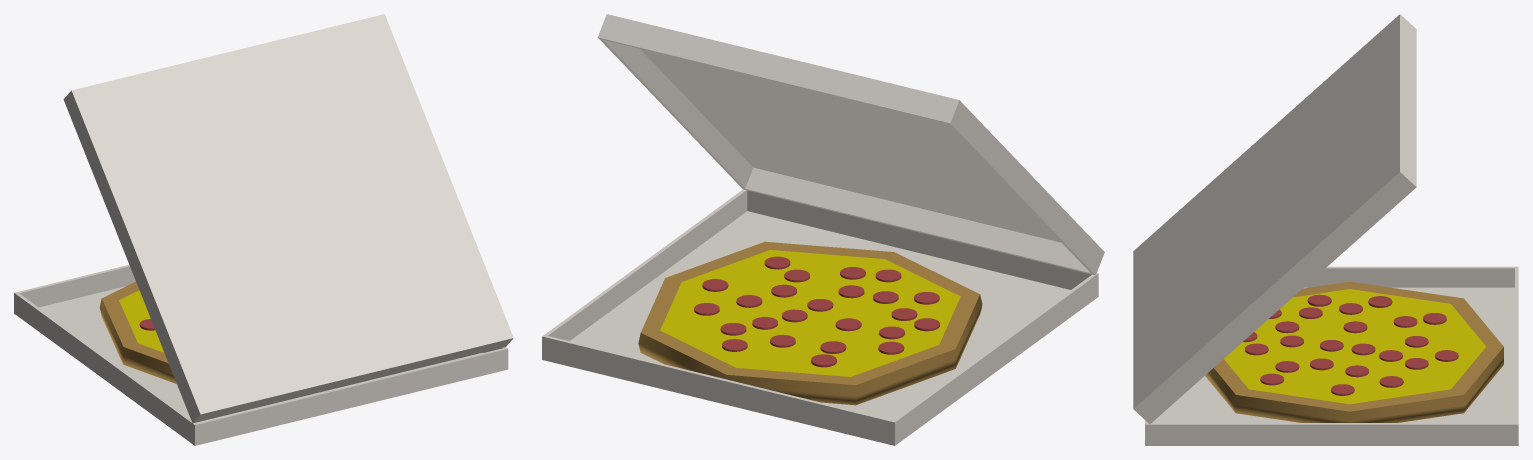
Rendered from pizza.fbx.
3 views of the same model, side by side, from view 1: azimuth 30°, elevation 25°; view 2: azimuth 150°, elevation 25°; view 3: azimuth 270°, elevation 25° (orthographic). The views are drawn at different scales.
Visible parts, largest first — view 1: pCube2, pCube1, pCube3; view 2: pCube2, pCube1, pCube3; view 3: pCube2, pCube3, pCube1.
Boxes of the visible parts, bbox=[...] form: pCube2: bbox=[63, 14, 513, 423]; pCube1: bbox=[14, 265, 508, 445]; pCube3: bbox=[99, 281, 176, 383]; pCube2: bbox=[597, 14, 1104, 275]; pCube1: bbox=[542, 189, 1098, 445]; pCube3: bbox=[638, 241, 982, 405]; pCube2: bbox=[1133, 14, 1416, 423]; pCube3: bbox=[1205, 281, 1503, 422]; pCube1: bbox=[1145, 266, 1518, 445].
Bounding box in the file's own units: 7.79 × 6.3 × 8.03.
